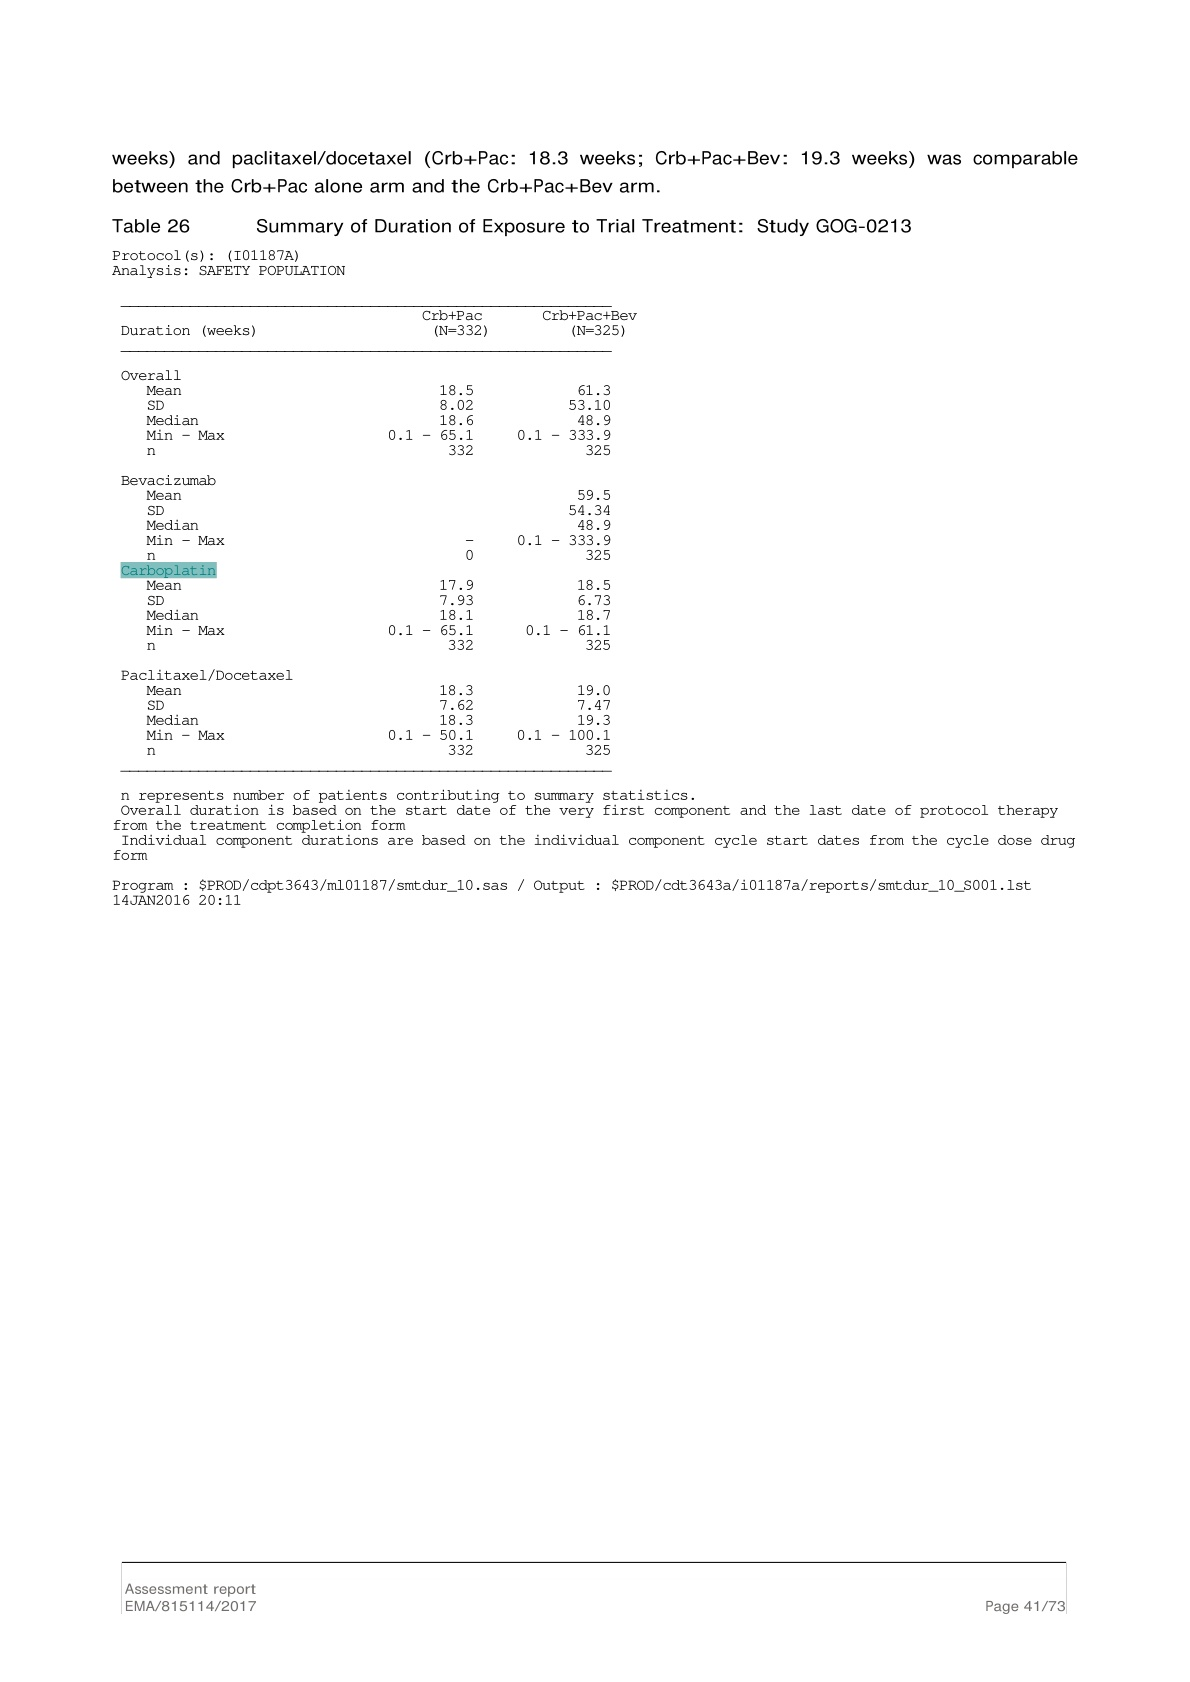partial_lined: (120, 305, 641, 775)
